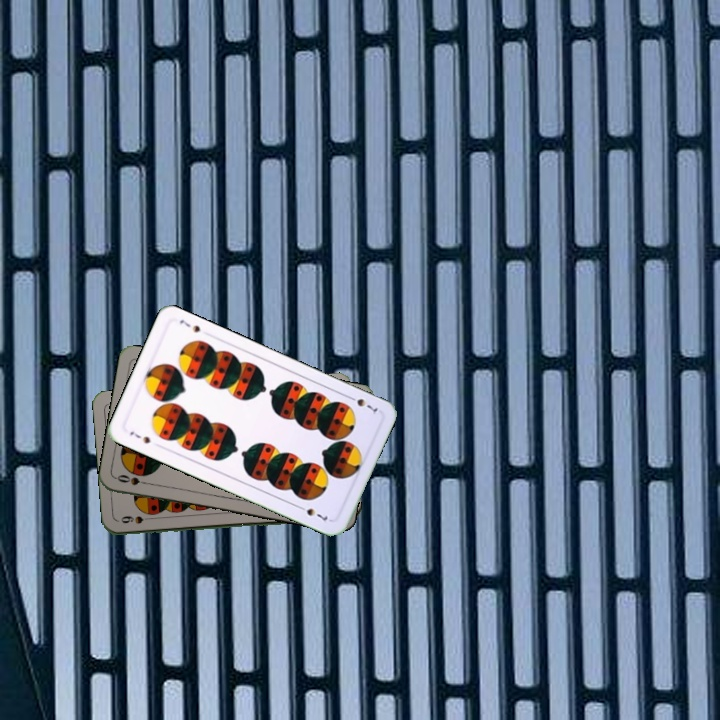S7: (344, 392, 382, 417), (126, 427, 153, 446)
S9: (117, 512, 157, 526)
SO: (113, 471, 153, 488)
